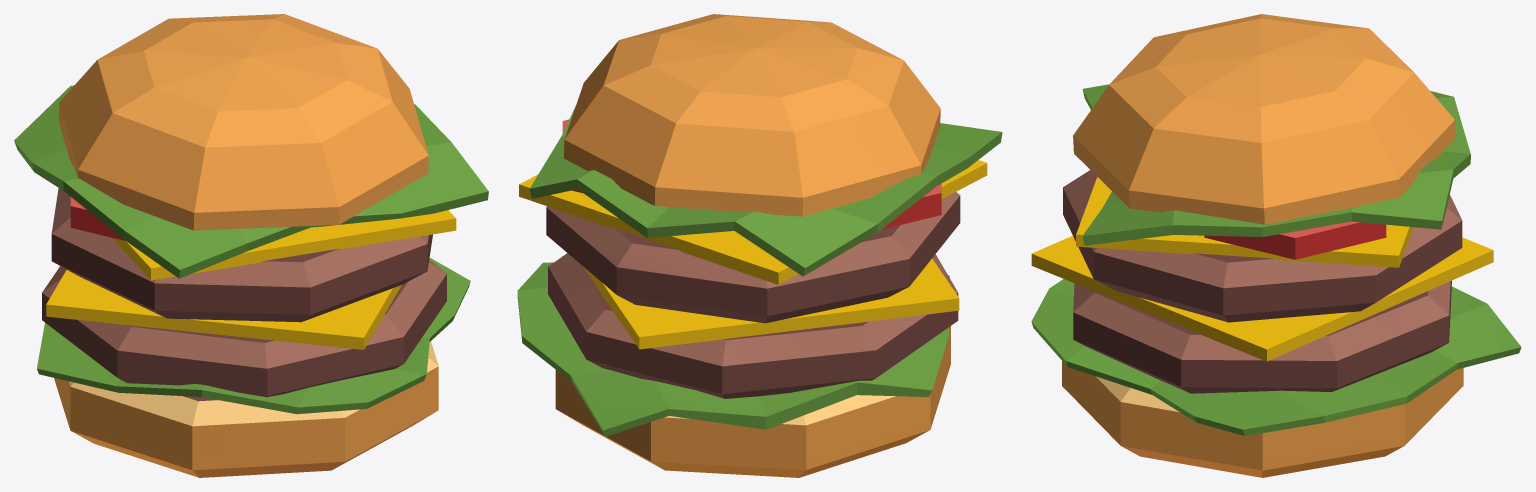
File: HamBurger_Mesh.fbx
3 renders of one model, left to right at view 1: azimuth 30°, elevation 25°; view 2: azimuth 150°, elevation 25°; view 3: azimuth 270°, elevation 25°, orthographic.
Visible parts, largest first — view 1: HamBurger_Mesh; view 2: HamBurger_Mesh; view 3: HamBurger_Mesh.
Boxes of the visible parts, x1,y1,x2,y2 form: HamBurger_Mesh: (14,14,488,477); HamBurger_Mesh: (517,14,1002,477); HamBurger_Mesh: (1031,14,1521,477).
Size of the model in its own units: 11.93 by 9.58 by 12.17.
Materials: 1 (1 with a texture image).
